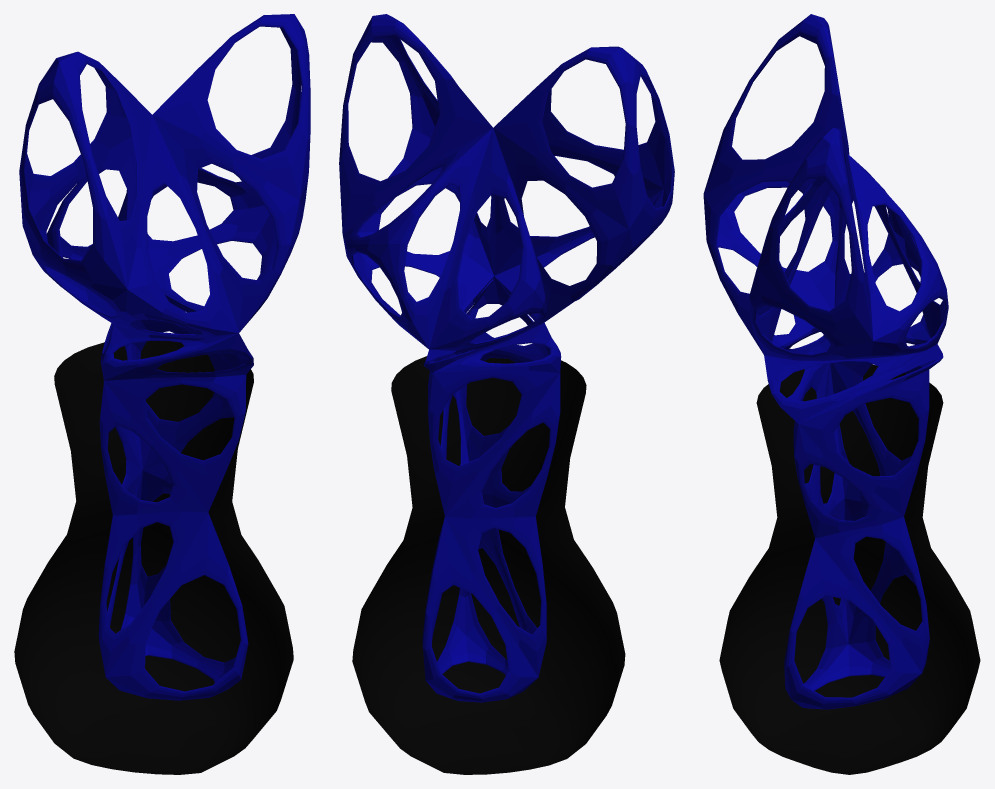
File: BigBluePlant.glb
3 views of the same model, side by side, from view 1: azimuth 30°, elevation 25°; view 2: azimuth 150°, elevation 25°; view 3: azimuth 270°, elevation 25° (orthographic). The views are drawn at different scales.
Visible parts, largest first — view 1: BigBluePlant; view 2: BigBluePlant; view 3: BigBluePlant.
Part boxes in pixels (x1=…): BigBluePlant: x1=14, y1=14, x2=310, y2=774; BigBluePlant: x1=339, y1=14, x2=674, y2=774; BigBluePlant: x1=703, y1=14, x2=980, y2=774.
Size of the model in its own units: 1.34 by 3.18 by 1.18.
